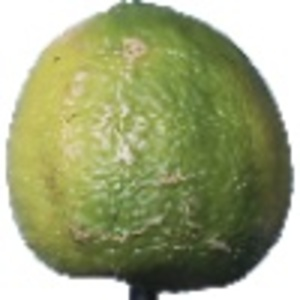limão: (5, 1, 296, 300)
